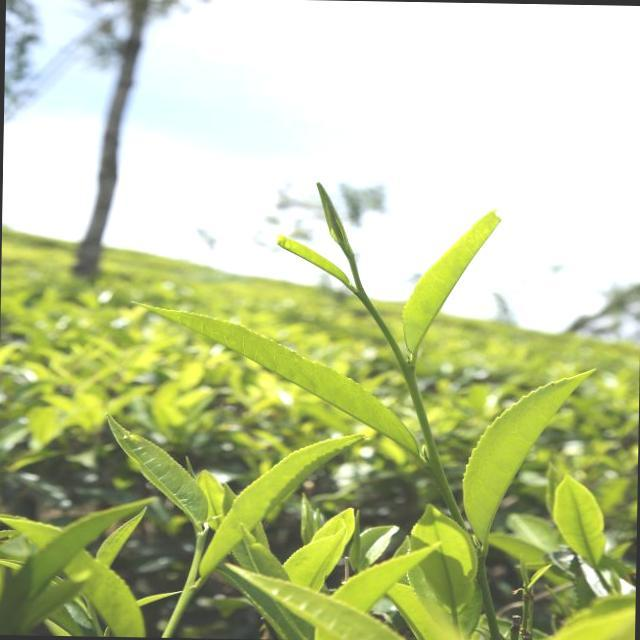Stem: (181, 580, 202, 601), (356, 289, 370, 304)
